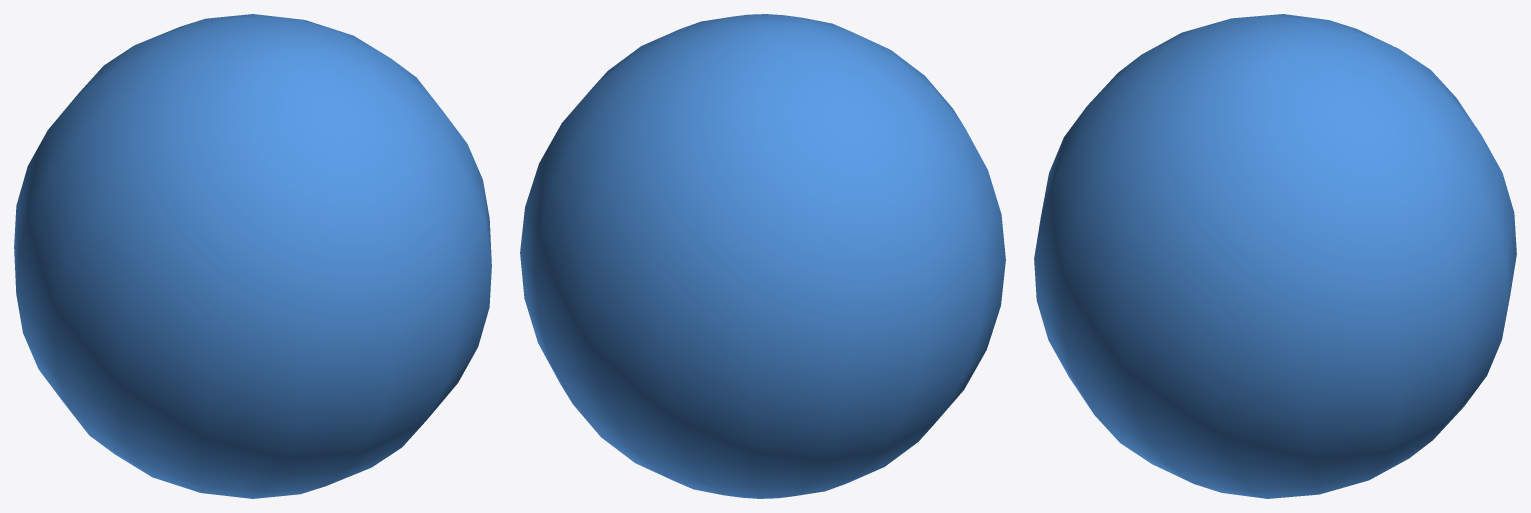
3 views of the same model, side by side, from view 1: azimuth 30°, elevation 25°; view 2: azimuth 150°, elevation 25°; view 3: azimuth 270°, elevation 25° (orthographic).
Visible parts, largest first — view 1: orb1.008; view 2: orb1.008; view 3: orb1.008.
Boxes of the visible parts, x1=… form: orb1.008: x1=14, y1=14, x2=491, y2=498; orb1.008: x1=520, y1=14, x2=1005, y2=498; orb1.008: x1=1034, y1=14, x2=1516, y2=498.
Size of the model in its own units: 0.3971 by 0.3999 by 0.3976.
